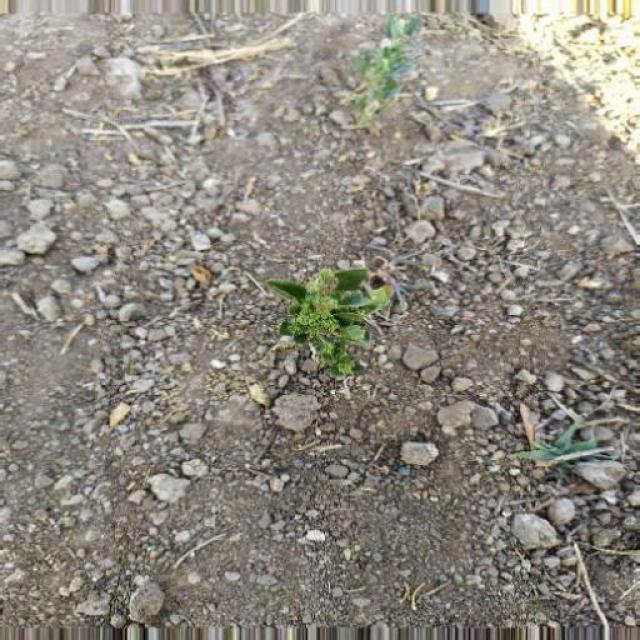weed: (264, 259, 390, 380), (335, 22, 444, 160)
